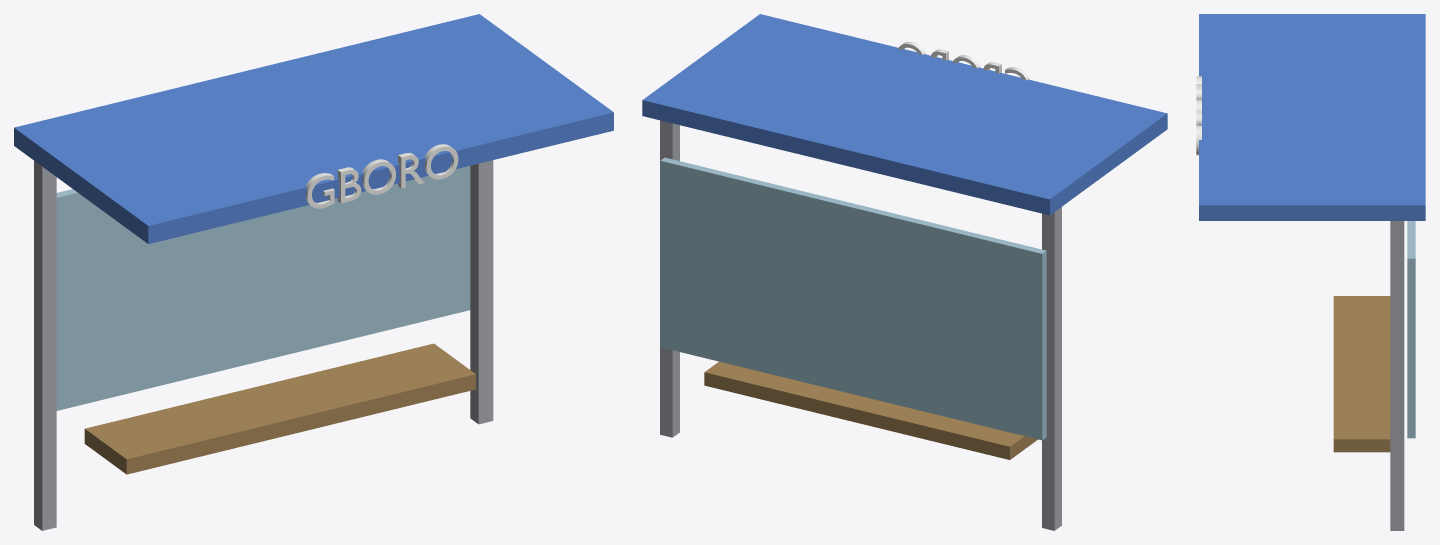
File: EN_BusStop.glb
3 views of the same model, side by side, from view 1: azimuth 30°, elevation 25°; view 2: azimuth 150°, elevation 25°; view 3: azimuth 270°, elevation 25° (orthographic). The views are drawn at different scales.
Visible parts, largest first — view 1: EN_BusStop; view 2: EN_BusStop; view 3: EN_BusStop.
Boxes of the visible parts, bbox=[...] form: EN_BusStop: bbox=[14, 14, 613, 530]; EN_BusStop: bbox=[642, 14, 1167, 530]; EN_BusStop: bbox=[1196, 14, 1425, 530].
Size of the model in its own units: 3.2 by 2.62 by 1.62.
